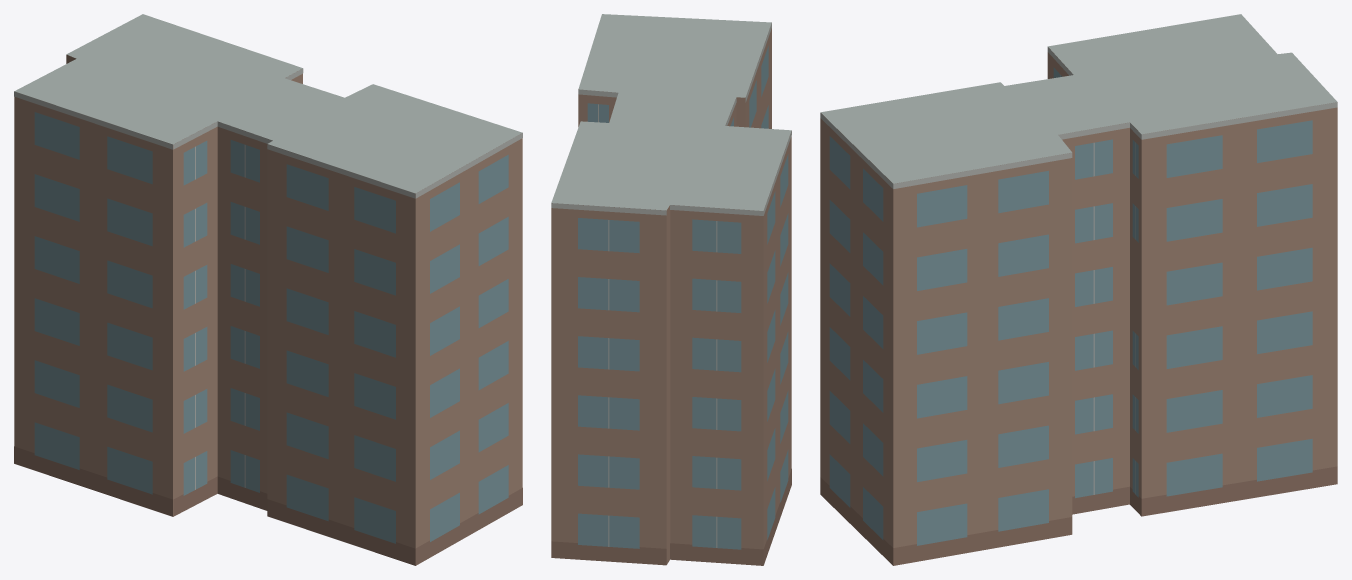
File: survey-upis-32568619.glb
The picture shows the model from 3 angles, left to right: view 1: azimuth 30°, elevation 25°; view 2: azimuth 150°, elevation 25°; view 3: azimuth 270°, elevation 25°; orthographic projection. The views are drawn at different scales.
Parts seen in each view (by area): view 1: survey-upis-32568619.tmp; view 2: survey-upis-32568619.tmp; view 3: survey-upis-32568619.tmp.
Boxes of the visible parts, box(x1,y1,x2,y2) form: survey-upis-32568619.tmp: box(14, 14, 522, 565); survey-upis-32568619.tmp: box(551, 14, 791, 565); survey-upis-32568619.tmp: box(820, 14, 1337, 565).
Bounding box in the file's own units: 16.4 × 17.2 × 21.12.
